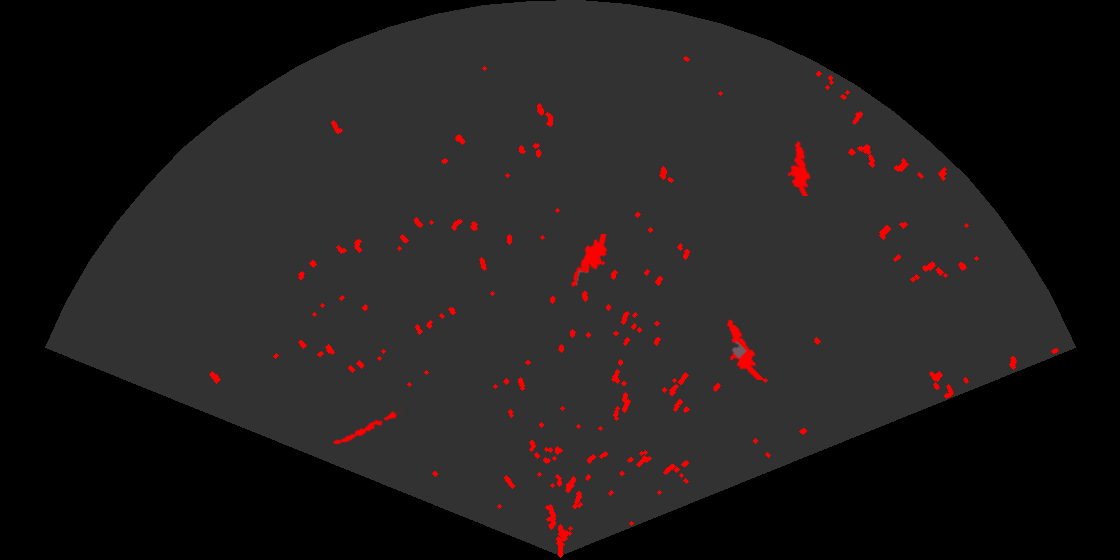chain: (330, 407, 403, 446)
frogman: (725, 318, 766, 380), (570, 234, 609, 289), (786, 139, 812, 196)
